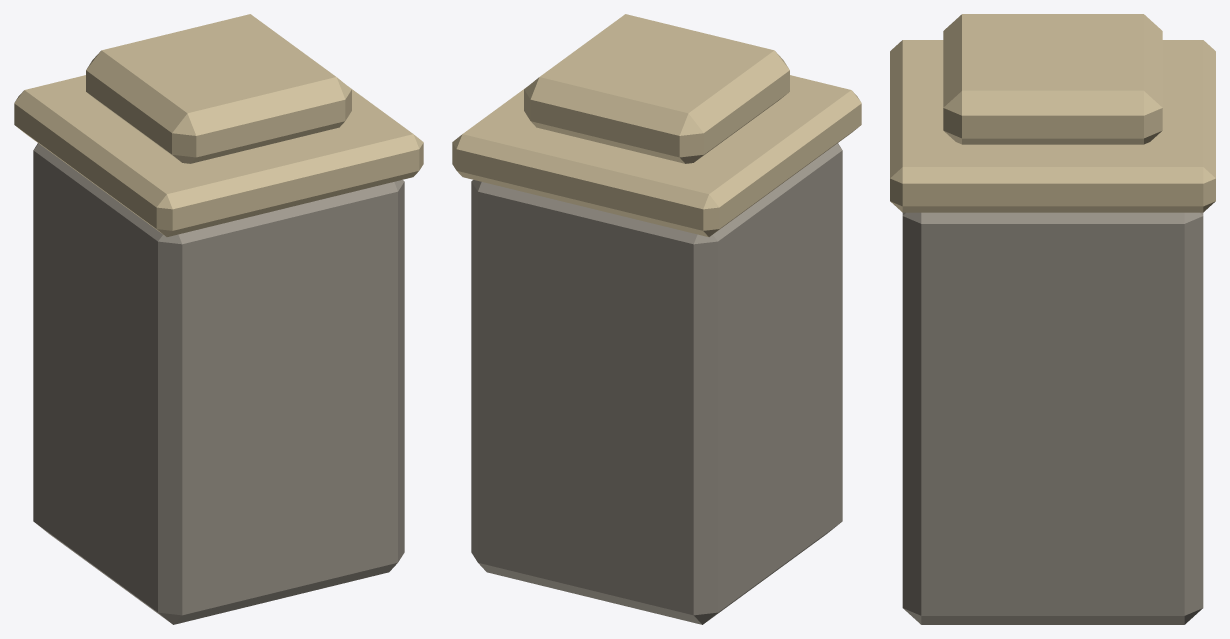
File: WallCorner_Meadow.fbx
The picture shows the model from 3 angles, left to right: view 1: azimuth 30°, elevation 25°; view 2: azimuth 150°, elevation 25°; view 3: azimuth 270°, elevation 25°; orthographic projection. The views are drawn at different scales.
Visible parts, largest first — view 1: WallCorner_Meadow; view 2: WallCorner_Meadow; view 3: WallCorner_Meadow.
Part boxes in pixels (<box>): WallCorner_Meadow: <box>14,14,423,624</box>; WallCorner_Meadow: <box>452,14,861,624</box>; WallCorner_Meadow: <box>890,14,1215,624</box>.
Bounding box in the file's own units: 1.04 × 1.82 × 1.04.
